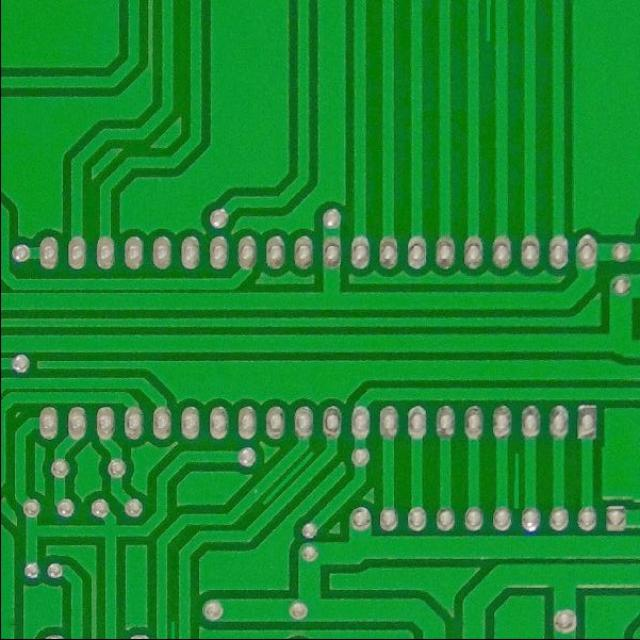spurious_copper: (258, 449, 317, 509), (502, 446, 526, 517), (477, 1, 502, 45), (159, 615, 183, 638)
